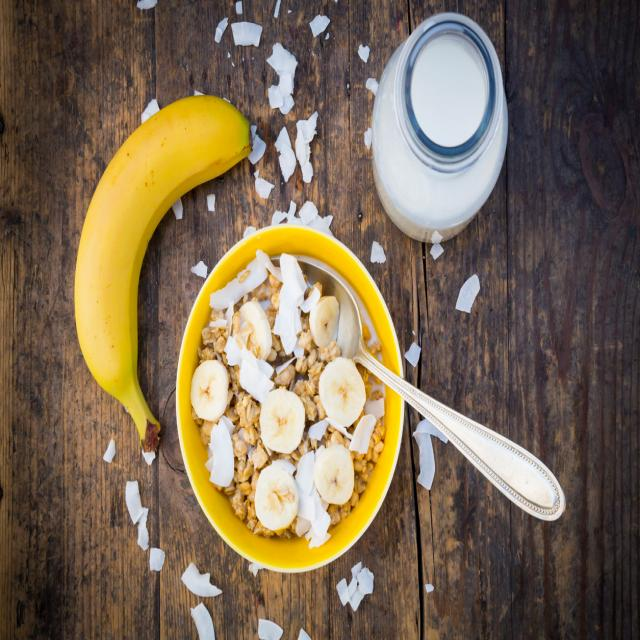banana: (70, 90, 256, 461), (252, 463, 302, 531), (260, 388, 308, 456), (319, 362, 366, 425), (314, 447, 356, 508), (190, 364, 230, 426), (308, 301, 344, 348)
